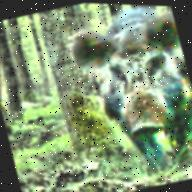boar: (70, 3, 192, 180)
